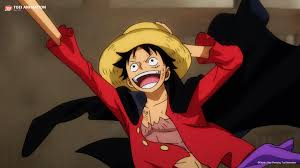luffy: (92, 22, 193, 95)
